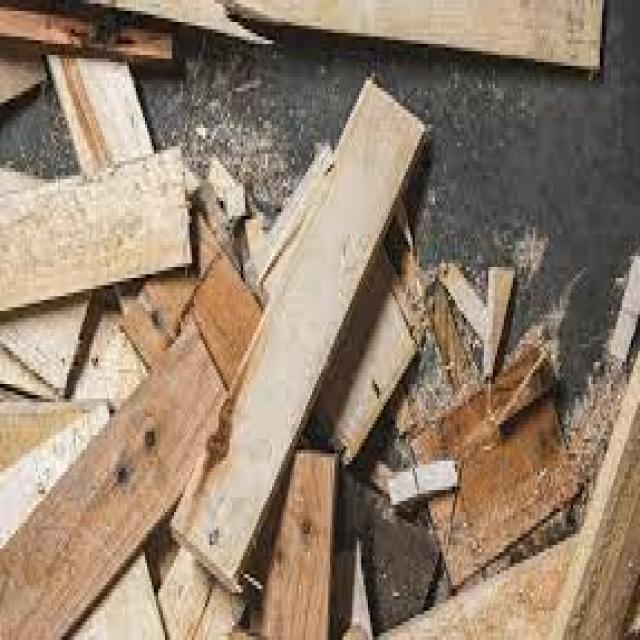green waste: (0, 115, 638, 633), (0, 3, 615, 126)
